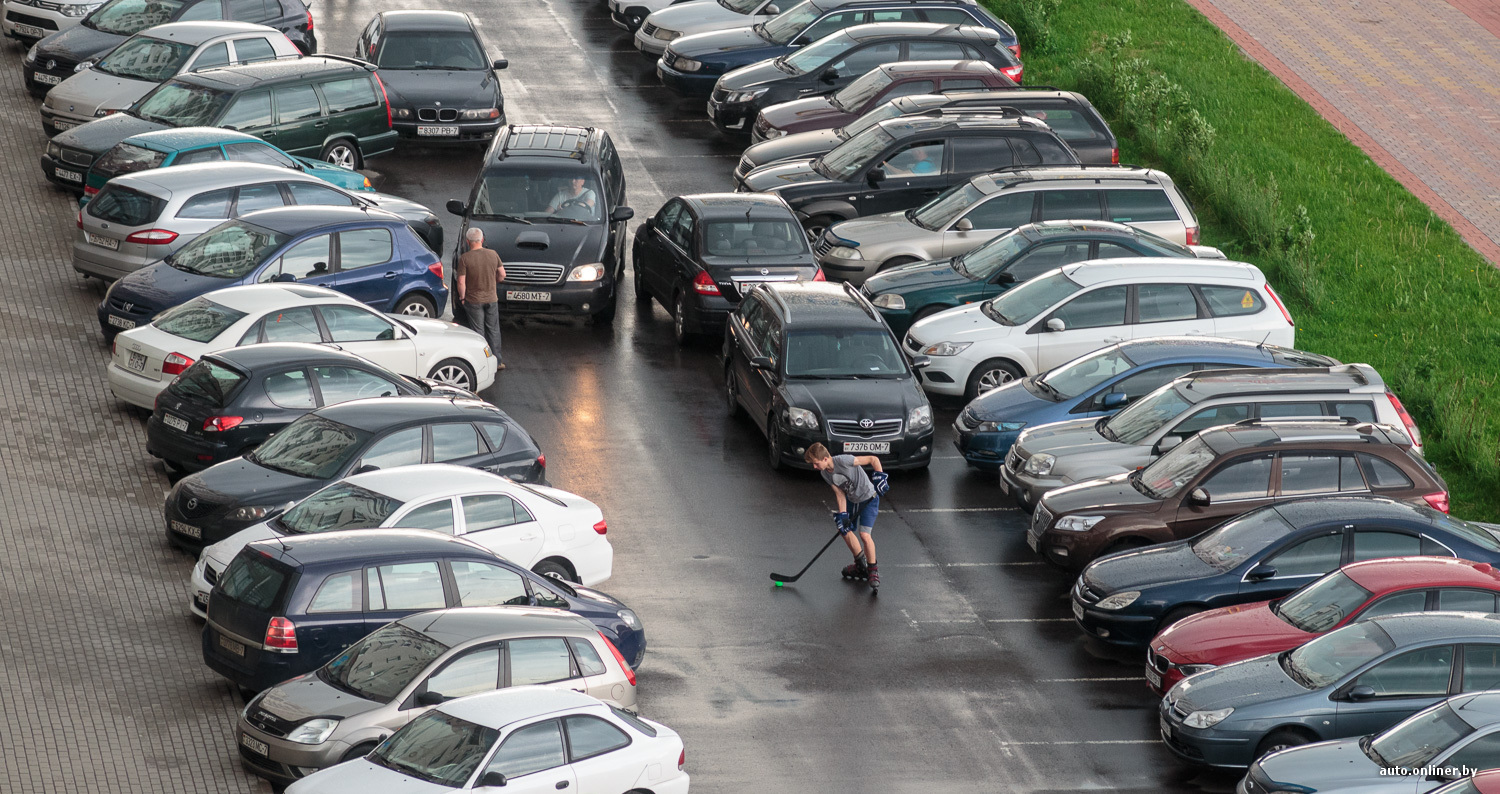Car: (201, 528, 646, 691), (236, 607, 637, 783), (1027, 416, 1450, 572), (1070, 497, 1500, 648), (190, 465, 612, 616), (998, 364, 1422, 512), (164, 397, 545, 554), (902, 257, 1295, 398), (1159, 612, 1500, 768), (954, 336, 1343, 470), (735, 106, 1080, 247), (107, 284, 498, 408), (41, 54, 397, 190), (1146, 557, 1500, 692), (98, 207, 447, 340), (72, 162, 445, 281), (815, 167, 1200, 282), (146, 343, 482, 473), (285, 686, 689, 794), (861, 220, 1226, 333), (721, 279, 934, 471), (732, 85, 1121, 190), (446, 123, 635, 324), (708, 22, 1023, 140), (657, 0, 1020, 96), (39, 21, 308, 134), (633, 193, 824, 344), (24, 0, 317, 95), (1237, 691, 1500, 794), (80, 128, 376, 205), (751, 60, 1019, 144), (354, 9, 509, 152), (634, 0, 801, 59), (0, 0, 105, 44), (607, 0, 697, 32), (1424, 769, 1500, 794)
